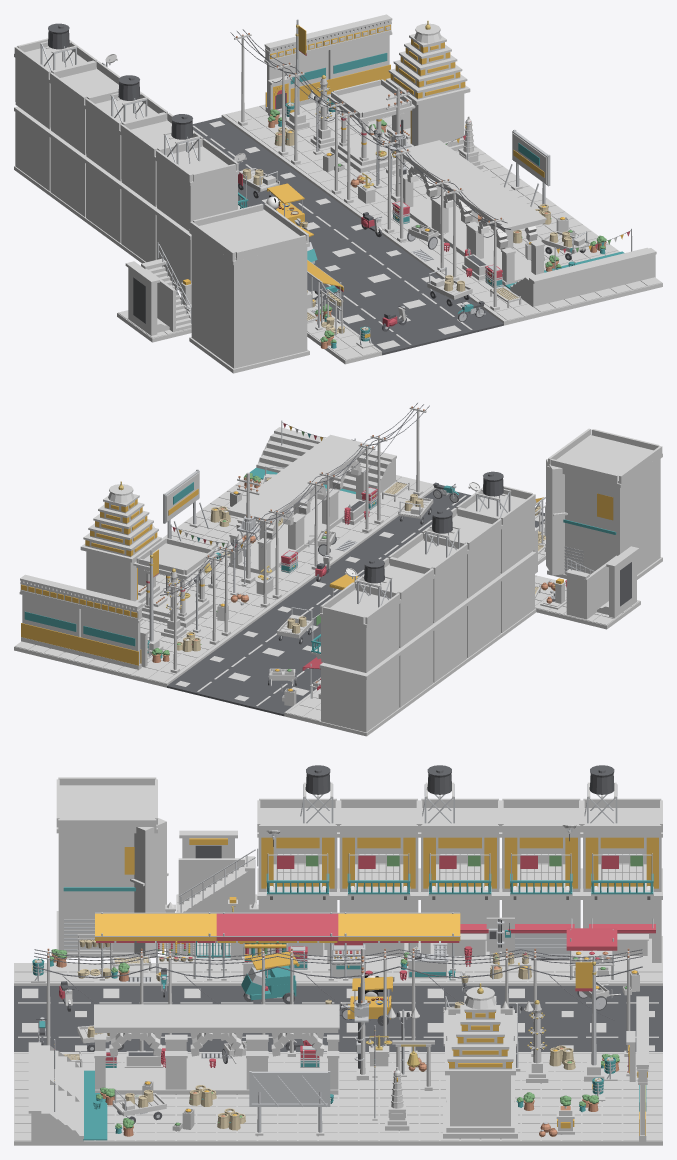
Rendered from Test street02.fbx.
The picture shows the model from 3 angles, top to bottom: view 1: azimuth 30°, elevation 25°; view 2: azimuth 150°, elevation 25°; view 3: azimuth 270°, elevation 25°; orthographic projection. The views are drawn at different scales.
Parts seen in each view (by area): view 1: street, food cart; view 2: street; view 3: street, food cart.
Boxes of the visible parts, x1=… form: street: x1=14, y1=14, x2=662, y2=373; food cart: x1=267, y1=183, x2=308, y2=230; street: x1=14, y1=403, x2=662, y2=736; street: x1=14, y1=765, x2=662, y2=1145; food cart: x1=325, y1=976, x2=393, y2=1025.
Bounding box in the file's own units: 2885 × 989 × 3200.
